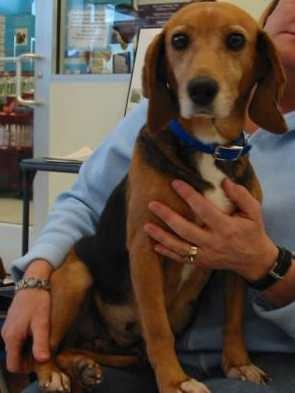Dog: (78, 3, 290, 344)
